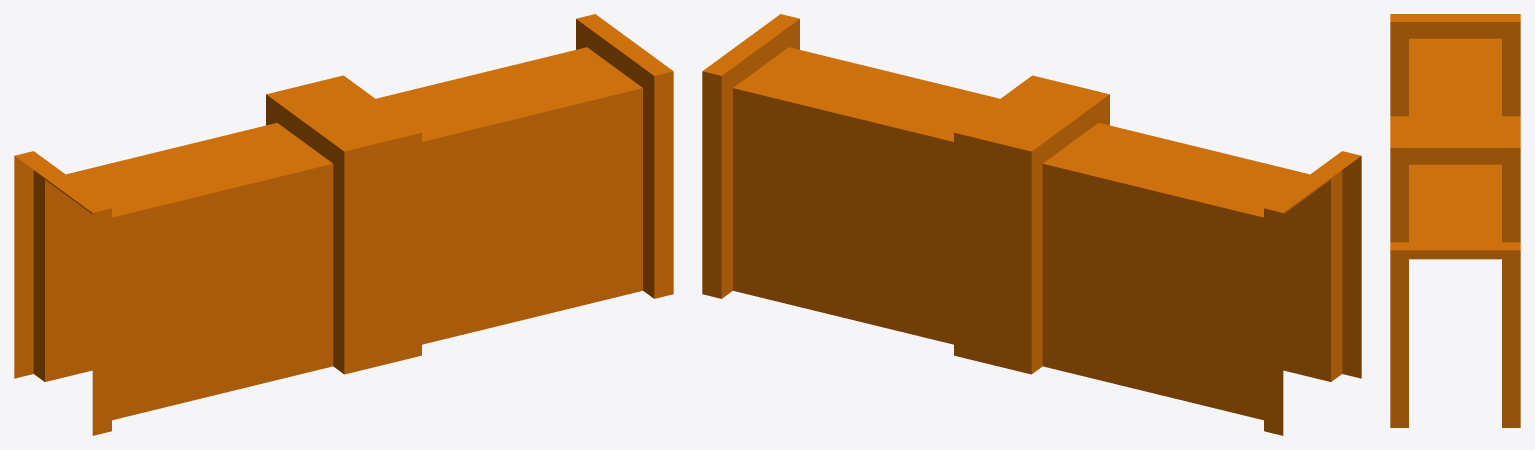
File: straightWall 1.fbx
3 renders of one model, left to right at view 1: azimuth 30°, elevation 25°; view 2: azimuth 150°, elevation 25°; view 3: azimuth 270°, elevation 25°, orthographic. The views are drawn at different scales.
Visible parts, largest first — view 1: StraightWall; view 2: StraightWall; view 3: StraightWall.
Part boxes in pixels (box(x1,y1,x2,y2)): StraightWall: box(14, 14, 673, 435); StraightWall: box(702, 14, 1361, 435); StraightWall: box(1390, 14, 1520, 427).
Bounding box in the file's own units: 30 × 11 × 7.
